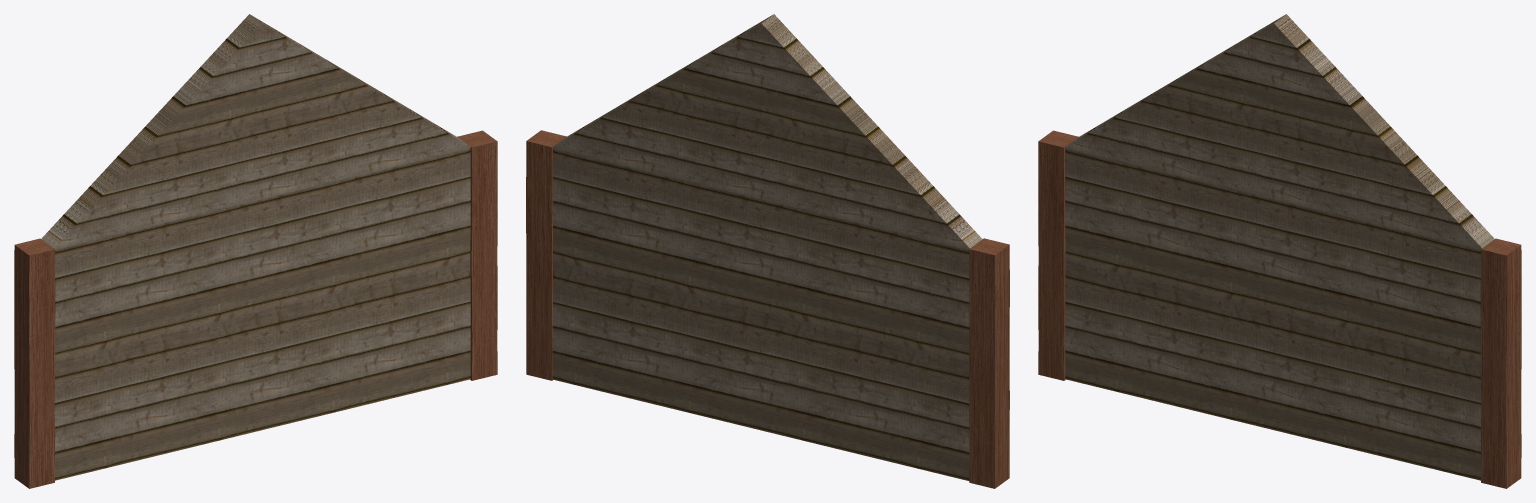
The model's file is R1_Belakang.fbx.
3 views of the same model, side by side, from view 1: azimuth 30°, elevation 25°; view 2: azimuth 150°, elevation 25°; view 3: azimuth 330°, elevation 25° (orthographic).
Parts seen in each view (by area): view 1: Cube.004; view 2: Cube.004; view 3: Cube.004.
Part boxes in pixels (x1=…): Cube.004: x1=14, y1=14, x2=497, y2=488; Cube.004: x1=526, y1=14, x2=1009, y2=488; Cube.004: x1=1038, y1=14, x2=1521, y2=488.
Bounding box in the file's own units: 14.88 × 12.37 × 0.8348.
2 materials, 2 textured.
